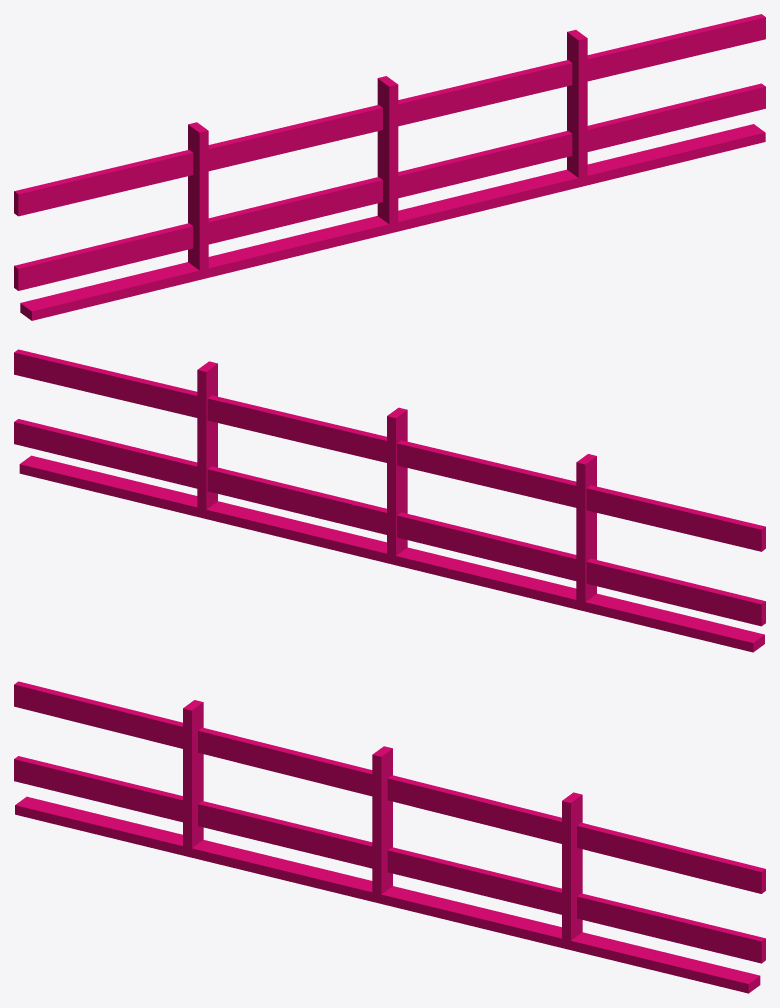
Rendered from House_Wood_Debris_02.fbx.
The picture shows the model from 3 angles, top to bottom: view 1: azimuth 30°, elevation 25°; view 2: azimuth 150°, elevation 25°; view 3: azimuth 330°, elevation 25°; orthographic projection.
Visible parts, largest first — view 1: House_Wood_Debris_02; view 2: House_Wood_Debris_02; view 3: House_Wood_Debris_02.
Part boxes in pixels (bbox=[...]): House_Wood_Debris_02: bbox=[14, 14, 765, 320]; House_Wood_Debris_02: bbox=[14, 349, 765, 652]; House_Wood_Debris_02: bbox=[14, 681, 765, 993].
Size of the model in its own units: 349 by 65.65 by 9.45.
